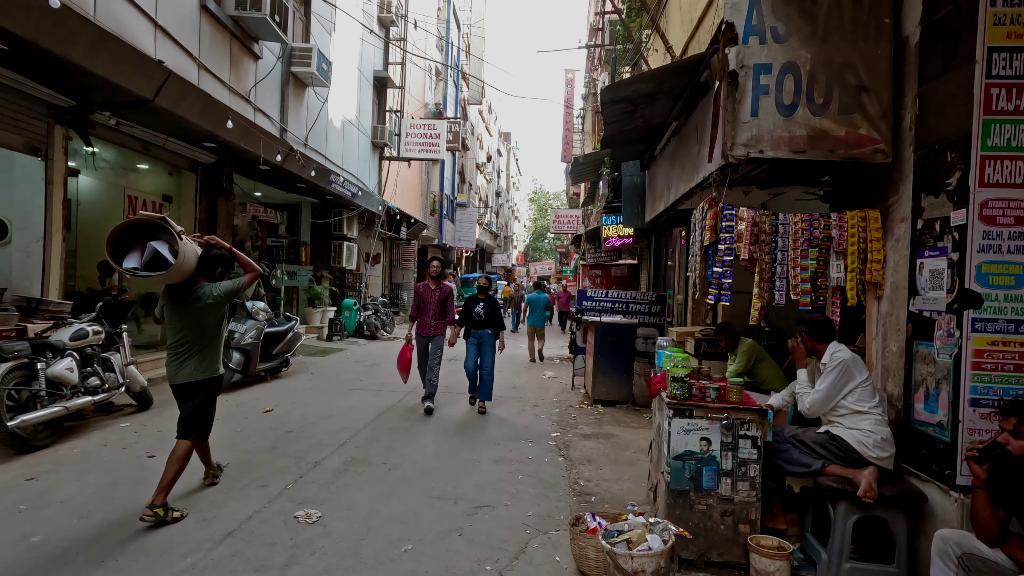dustbin: (568, 509, 674, 575)
garbage: (293, 503, 323, 525)
